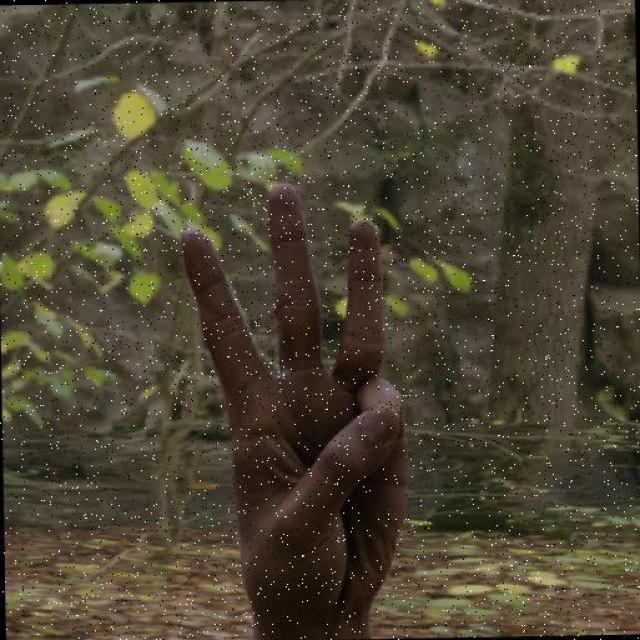W: (175, 178, 414, 630)
